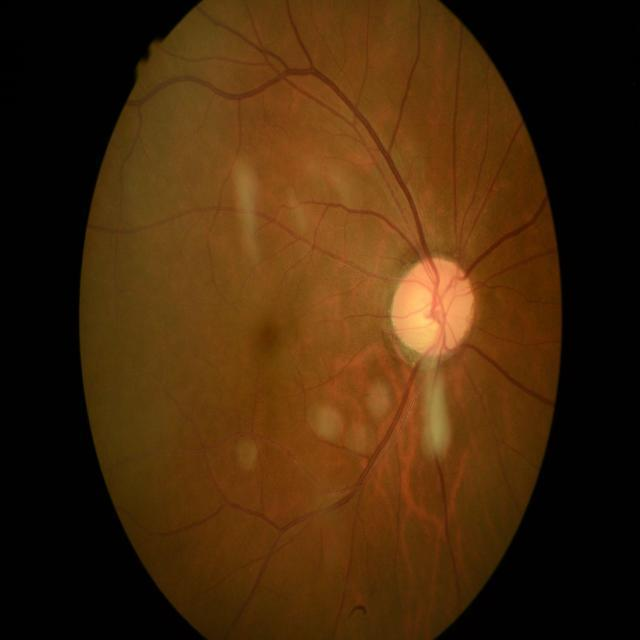cup: (415, 279, 453, 344)
disk: (392, 256, 476, 360)
